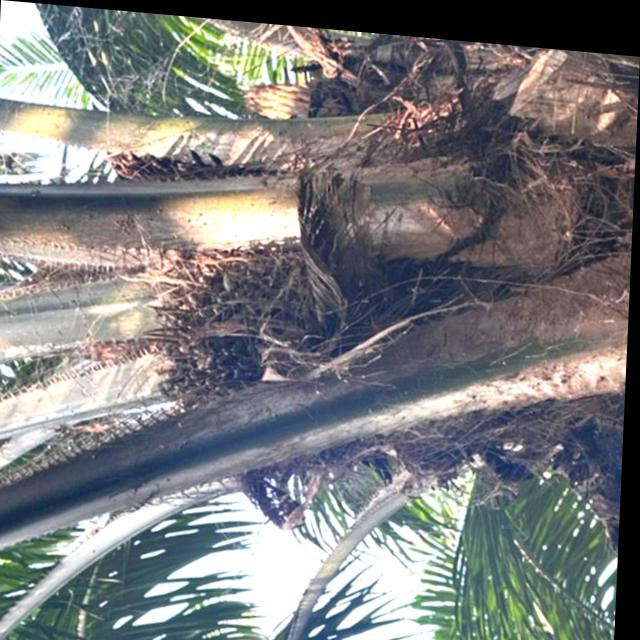unripe: (134, 217, 363, 438)
